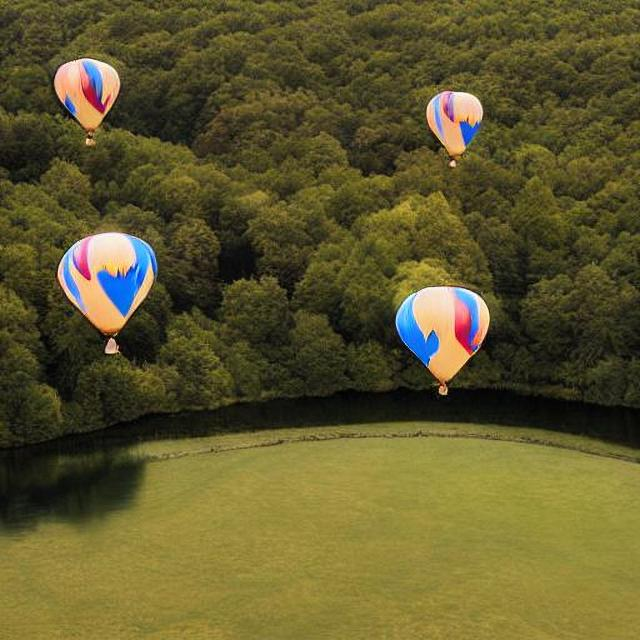balloon: (54, 230, 158, 350), (392, 286, 489, 396), (51, 56, 120, 143), (425, 88, 483, 160)
